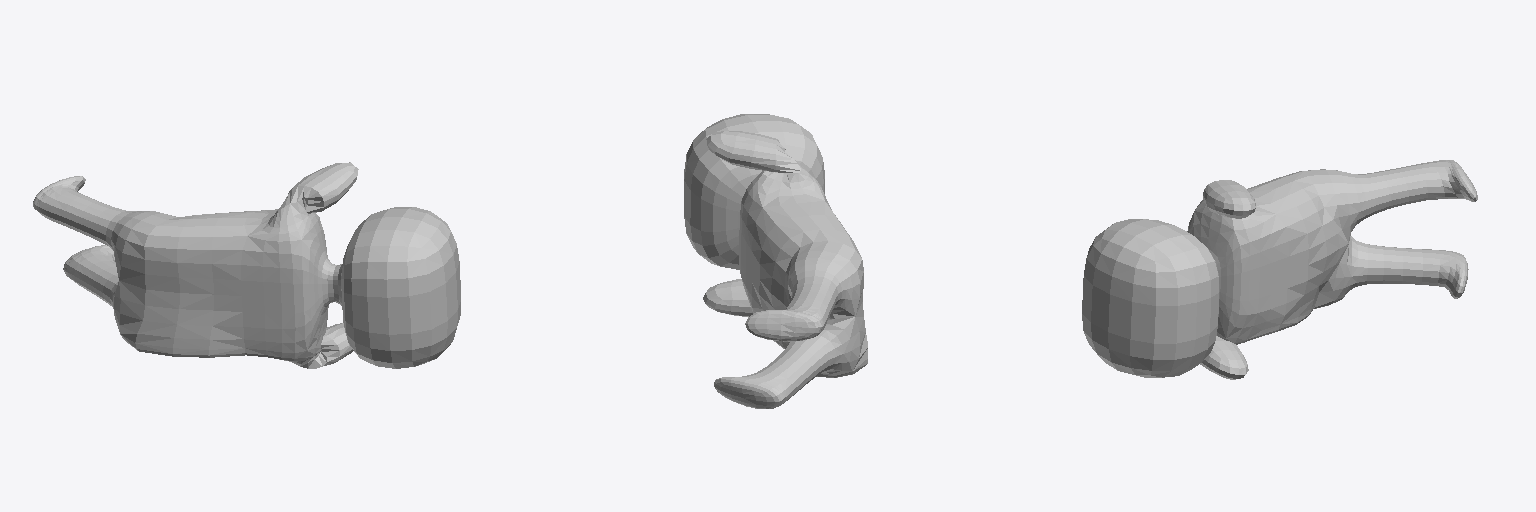
Rendered from antman_push_20.obj.
The picture shows the model from 3 angles: view 1: azimuth 30°, elevation 25°; view 2: azimuth 150°, elevation 25°; view 3: azimuth 270°, elevation 25°; orthographic projection.
Visible parts, largest first — view 1: Cube; view 2: Cube; view 3: Cube.
Boxes of the visible parts, x1=… form: Cube: x1=33, y1=162, x2=460, y2=368; Cube: x1=684, y1=114, x2=867, y2=408; Cube: x1=1082, y1=160, x2=1477, y2=379.
Size of the model in its own units: 1.32 by 0.8339 by 1.64.